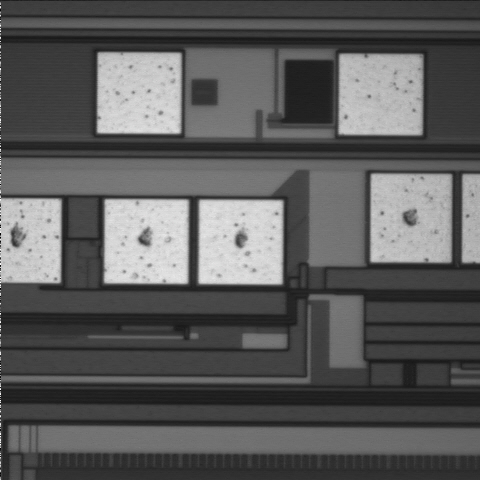pad: (104, 200, 188, 284), (199, 200, 283, 284), (371, 175, 450, 262), (98, 53, 181, 133), (339, 55, 421, 134)
